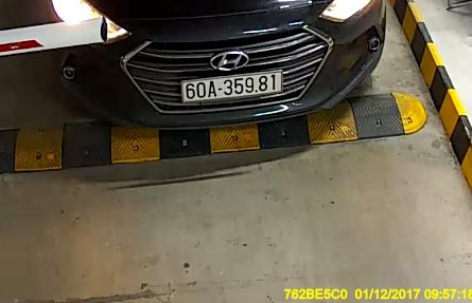plate: (179, 72, 289, 102)
